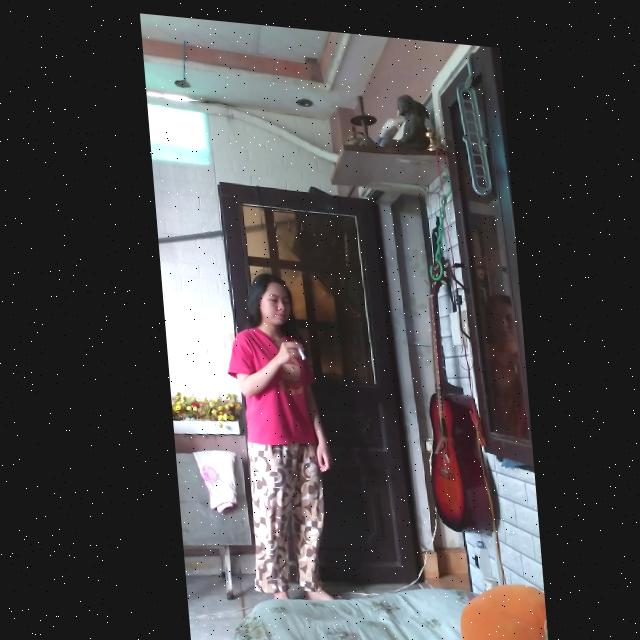cigarette: (289, 336, 300, 355)
